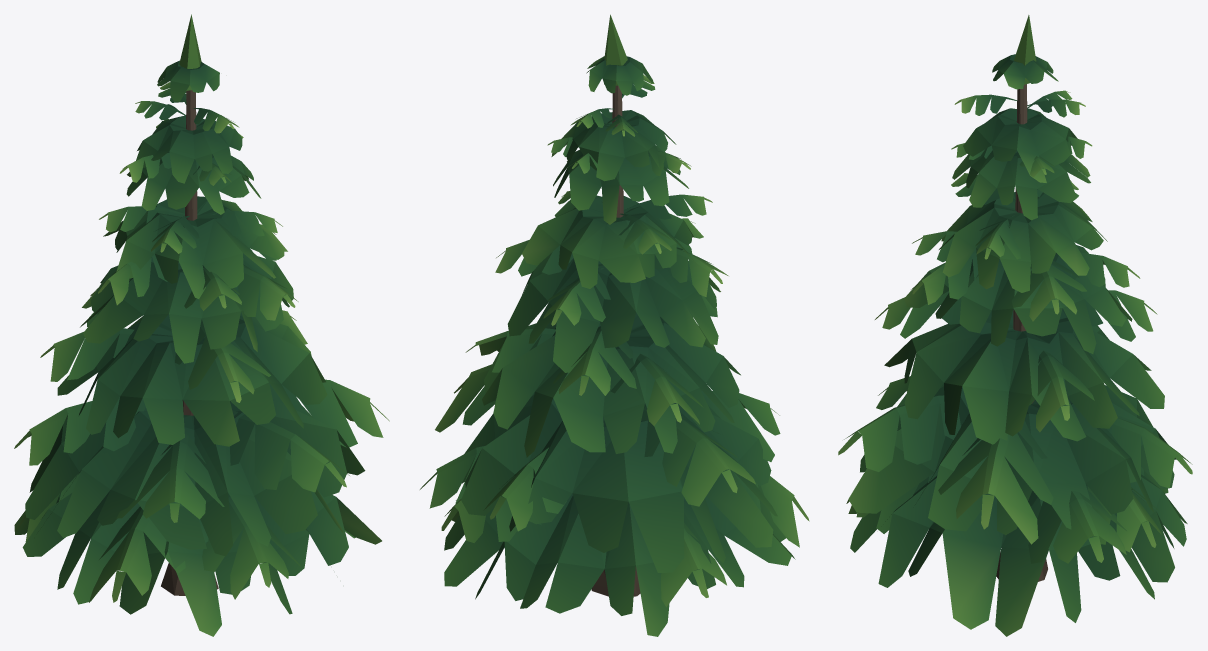
File: spruce_M_wide_std_open_s14.glb
3 renders of one model, left to right at view 1: azimuth 30°, elevation 25°; view 2: azimuth 150°, elevation 25°; view 3: azimuth 270°, elevation 25°, orthographic. The views are drawn at different scales.
Parts seen in each view (by area): view 1: Tree; view 2: Tree; view 3: Tree.
Part boxes in pixels (x1,y1,x2,y2): Tree: (14,14,389,636); Tree: (420,14,809,636); Tree: (838,15,1192,636).
Size of what is drawn, in the model's own units: 3.71 by 5.98 by 3.44.
